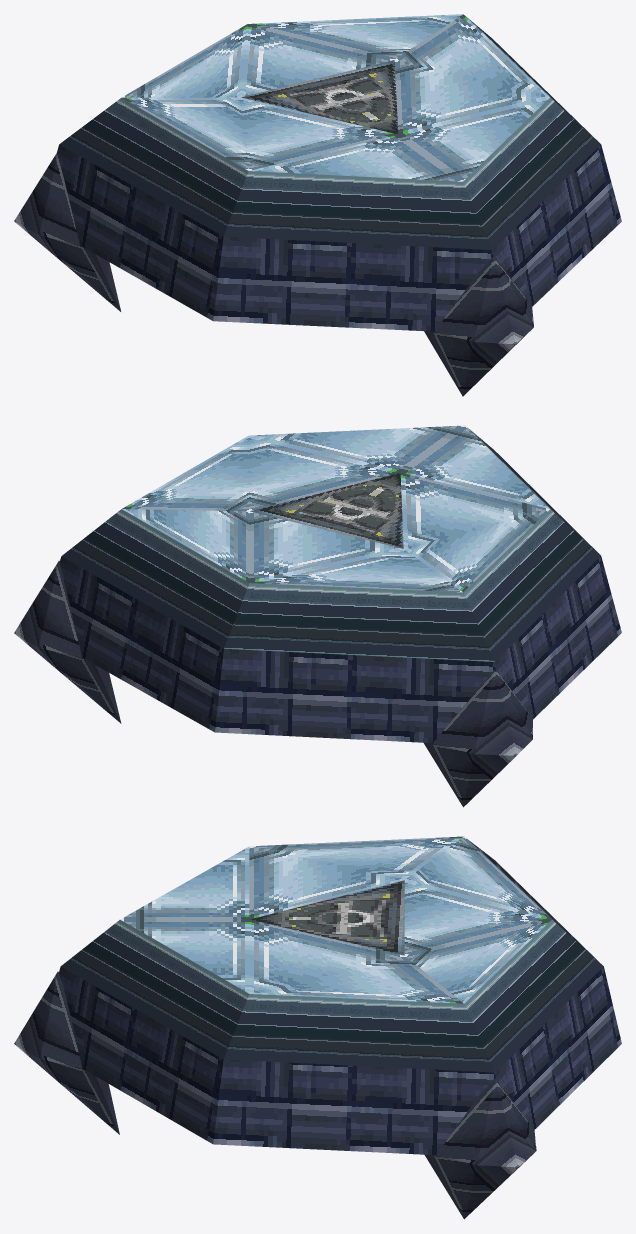
Rendered from 1f-proximity-mine-tp.glb.
3 renders of one model, top to bottom at view 1: azimuth 30°, elevation 25°; view 2: azimuth 150°, elevation 25°; view 3: azimuth 270°, elevation 25°, orthographic.
Visible parts, largest first — view 1: gun; view 2: gun; view 3: gun.
Part boxes in pixels (<box>): gun: <box>14,14,621,396</box>; gun: <box>14,425,621,807</box>; gun: <box>14,836,621,1219</box>.
Bounding box in the file's own units: 270 × 111 × 282.
5 materials, 5 textured.
